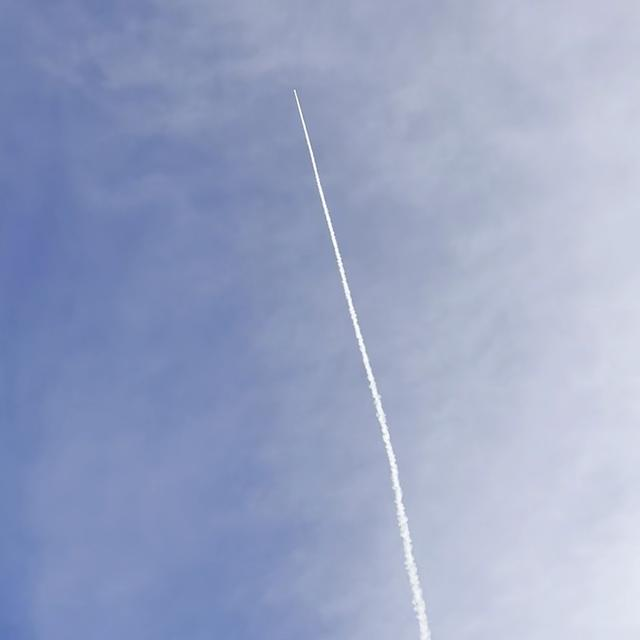smoke_trail_no_rocket: (294, 89, 432, 640)
